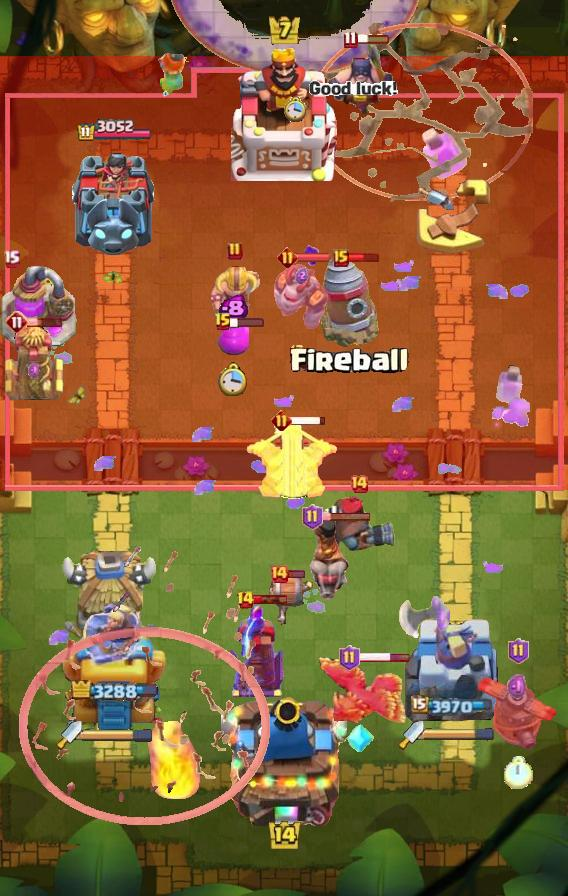bar: (59, 595, 169, 731), (405, 611, 501, 731)
dark-prince: (473, 664, 563, 750)
electro-spirit: (218, 294, 248, 324), (507, 672, 529, 700), (296, 268, 308, 285), (28, 361, 40, 378)
elite-barbarian: (306, 514, 350, 600)
elixir: (218, 362, 248, 396), (504, 756, 532, 788), (285, 97, 308, 123)
elixir-golem-small: (271, 262, 331, 332)
emote: (357, 652, 411, 664), (320, 511, 372, 522), (28, 316, 65, 328), (289, 414, 326, 426), (355, 33, 391, 45), (229, 316, 265, 328), (295, 252, 331, 263), (252, 595, 288, 606), (346, 252, 380, 263), (287, 569, 306, 579)
goblin-brawler: (3, 321, 65, 405)
goblin-giant: (208, 264, 262, 318)
guard: (309, 22, 533, 202)
hog-rider: (152, 48, 190, 100)
ice-spirit-evolution-symbol: (227, 603, 287, 699)
king-tower: (221, 690, 347, 826), (231, 45, 337, 181)
king-tower-bar: (82, 728, 154, 742), (424, 728, 494, 742)
knight: (266, 571, 314, 625)
knight-evolution: (422, 127, 468, 181), (493, 364, 522, 403)
lava-pup: (243, 420, 341, 502)
magic-archer: (320, 254, 380, 348)
miner: (217, 325, 249, 355)
monk: (326, 39, 394, 117)
mother-witch: (316, 655, 410, 729)
pad_2: (346, 721, 374, 755)
pekka: (0, 266, 78, 348)
phoenix-small: (320, 493, 398, 553)
prince: (59, 551, 161, 647)
queen-tower: (71, 144, 157, 255)
rocket: (167, 0, 423, 76)
royal-giant: (398, 594, 450, 644)
selected: (70, 680, 157, 703), (75, 119, 152, 143), (411, 695, 495, 716)
skeleton-barrel: (17, 545, 271, 825)
text: (5, 310, 29, 334), (302, 504, 323, 530), (508, 638, 529, 664), (339, 645, 360, 671), (272, 409, 293, 431), (277, 247, 298, 268), (349, 474, 369, 494), (269, 564, 289, 584), (237, 590, 256, 610), (214, 312, 232, 332), (4, 248, 21, 267), (227, 241, 243, 261), (333, 249, 349, 267), (343, 31, 357, 49)
valkyrie: (148, 718, 206, 804)
